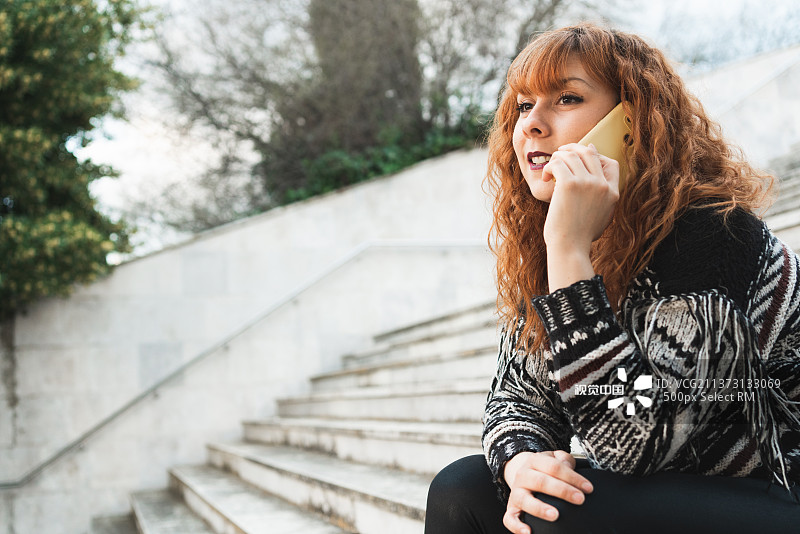calling: (536, 112, 659, 273)
